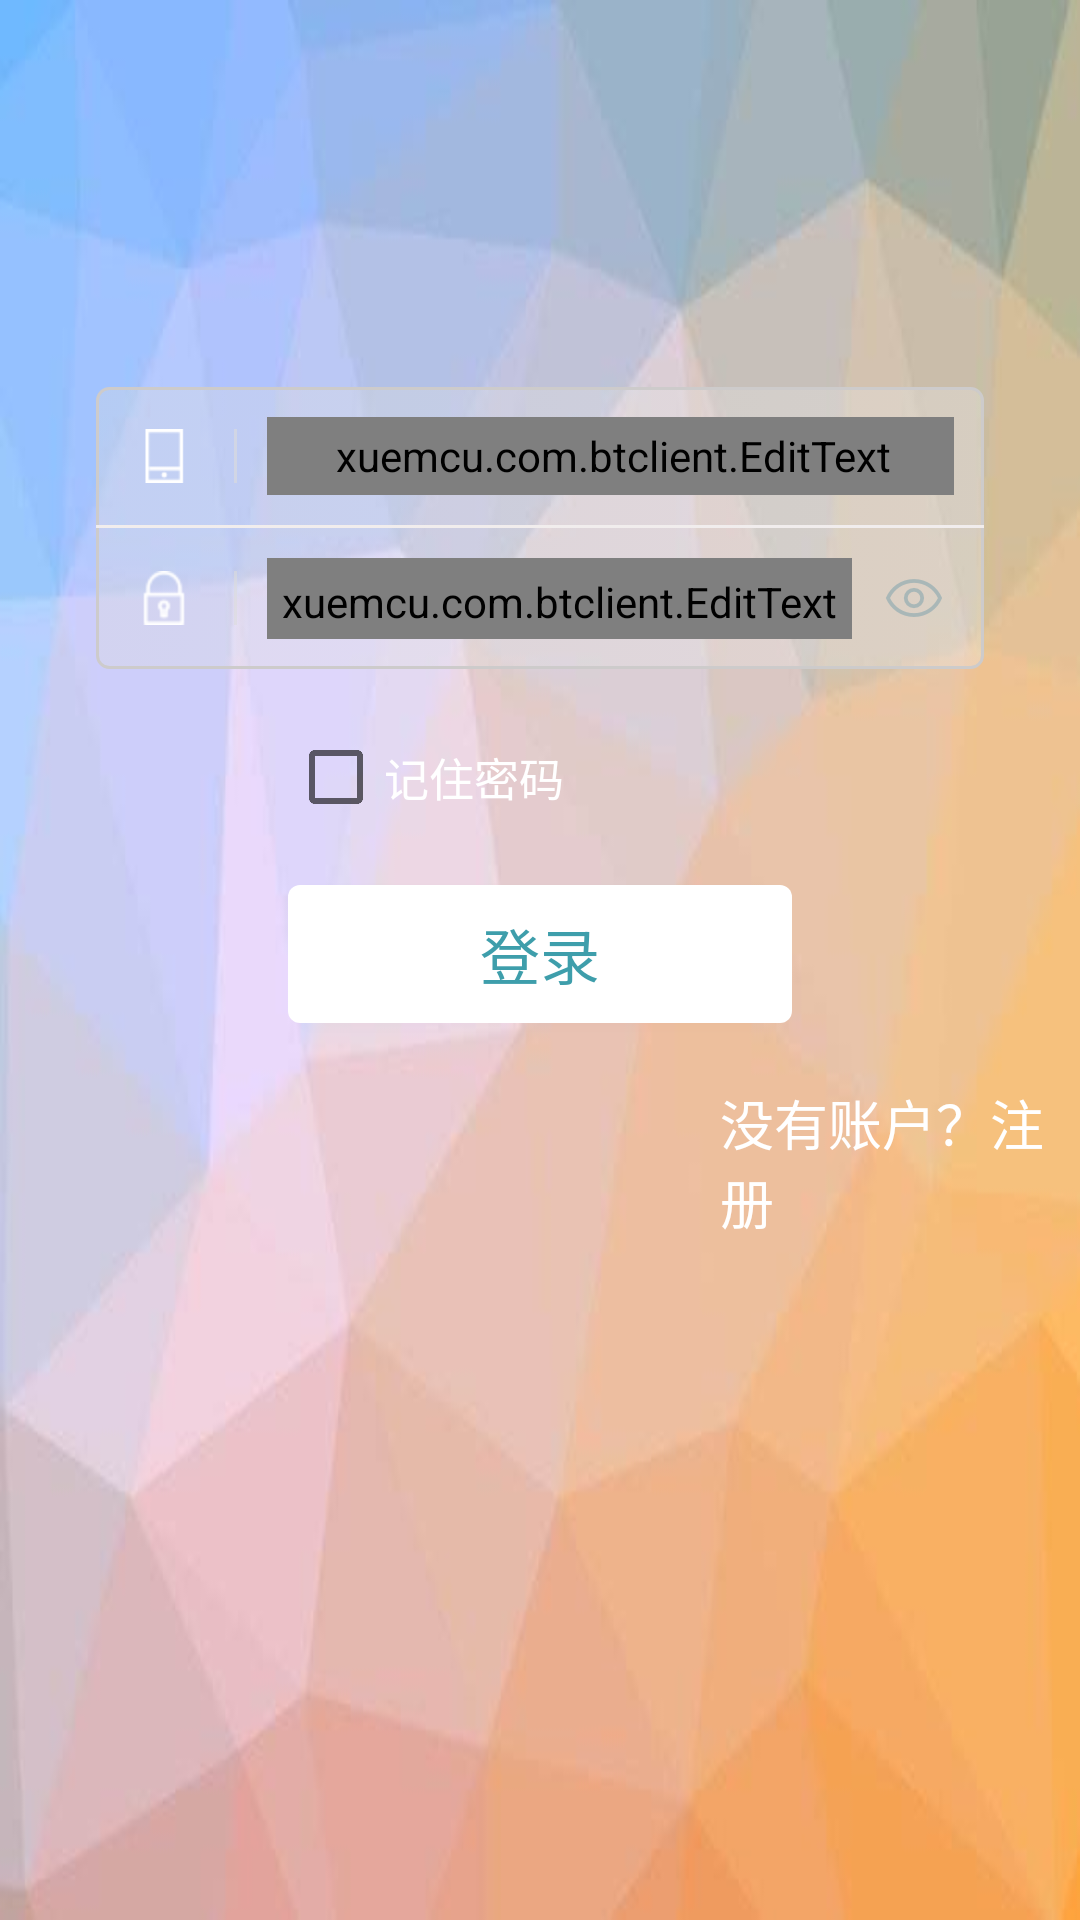

Named icons in this screenshot (1080*1920) and their bounding boxes, (x1, y1, x2, y2):
eye: (886, 579, 942, 617)
log phone: (145, 429, 183, 483)
login pwd: (144, 571, 184, 625)
